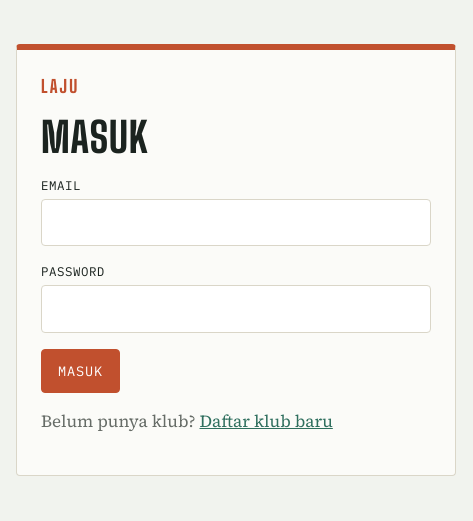
Test case: routing & auth › shows the server error when login fails
Type "a@example.com" into the field labelled "Email". click: (236, 223)
box: [41,199,431,246]
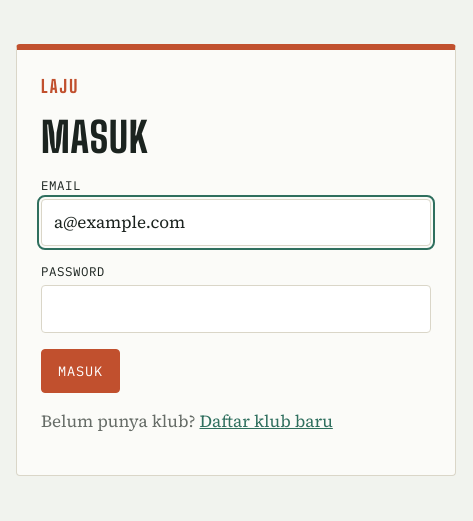
Type "salah" into the password field labelled "Password". click: (236, 309)
box: [41,285,431,332]
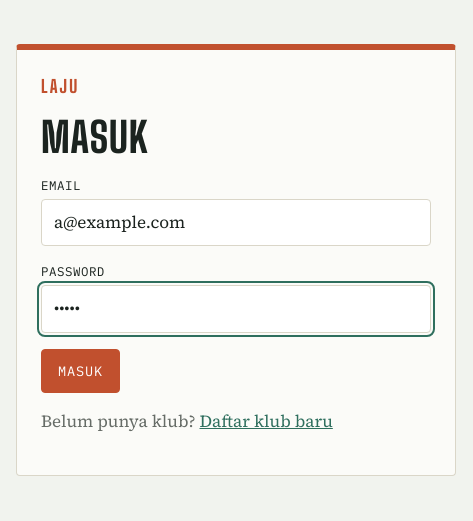
Click the button "Masuk". click: (80, 370)
box: [41,348,120,392]
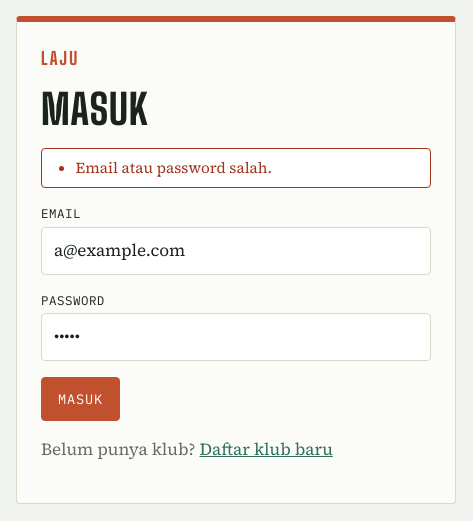
Expected: the message reads "Email atau password salah.", [76,157,272,178]
